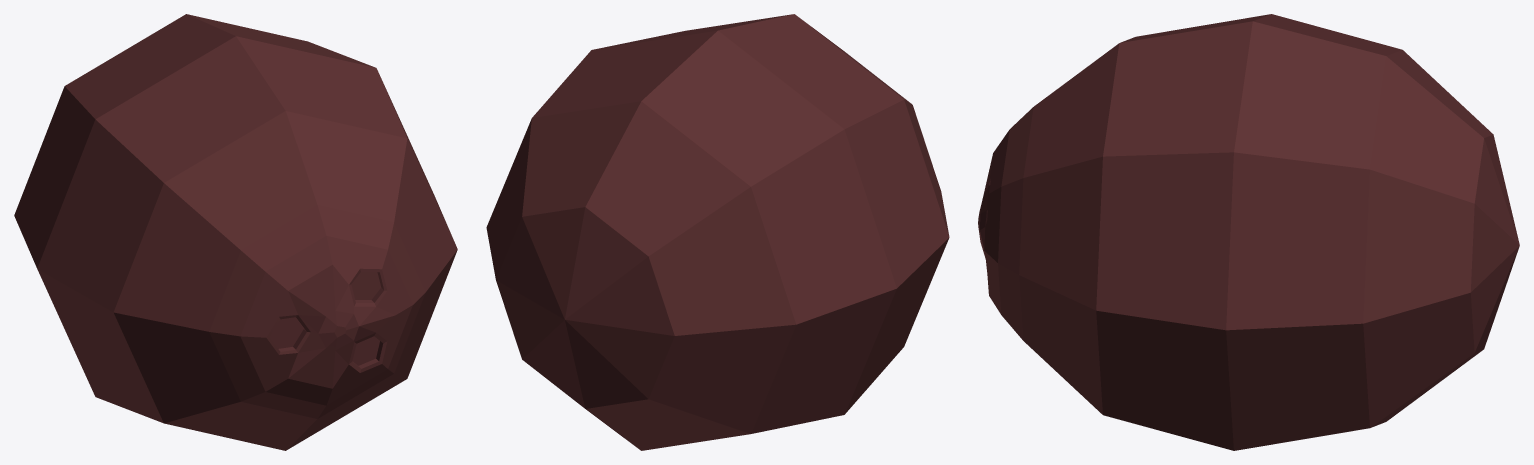
The model's file is Coconut_Raw.fbx.
3 renders of one model, left to right at view 1: azimuth 30°, elevation 25°; view 2: azimuth 150°, elevation 25°; view 3: azimuth 270°, elevation 25°, orthographic. The views are drawn at different scales.
Parts seen in each view (by area): view 1: SM_Coconut_Raw; view 2: SM_Coconut_Raw; view 3: SM_Coconut_Raw.
Boxes of the visible parts, x1,y1,x2,y2 form: SM_Coconut_Raw: [14, 14, 457, 450]; SM_Coconut_Raw: [486, 14, 949, 450]; SM_Coconut_Raw: [978, 14, 1519, 450].
Size of the model in its own units: 19.84 by 19.97 by 23.22.
Materials: 1 (1 with a texture image).
